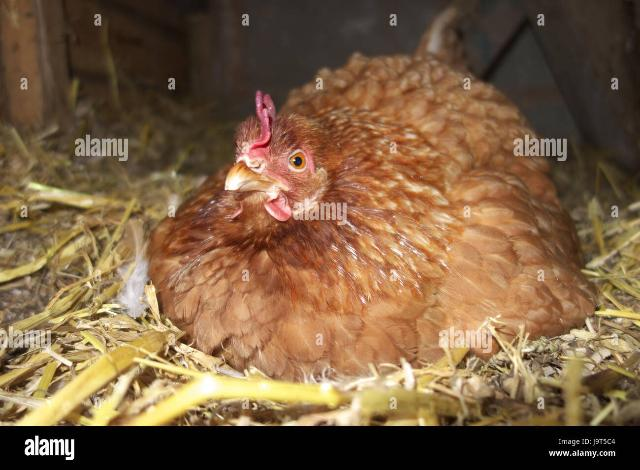Chicken: (146, 52, 598, 379)
